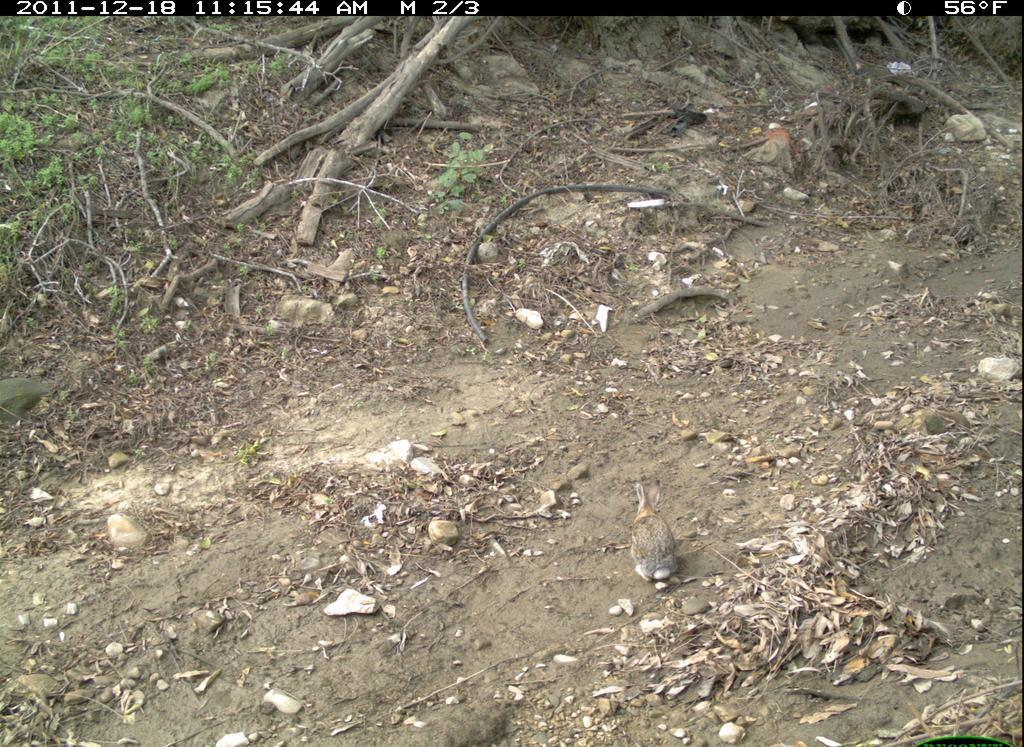rabbit: (614, 464, 698, 606)
